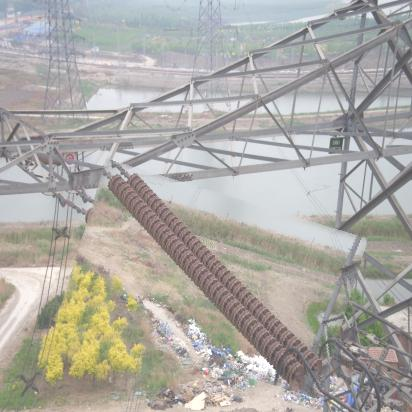insulator: (68, 179, 360, 383)
